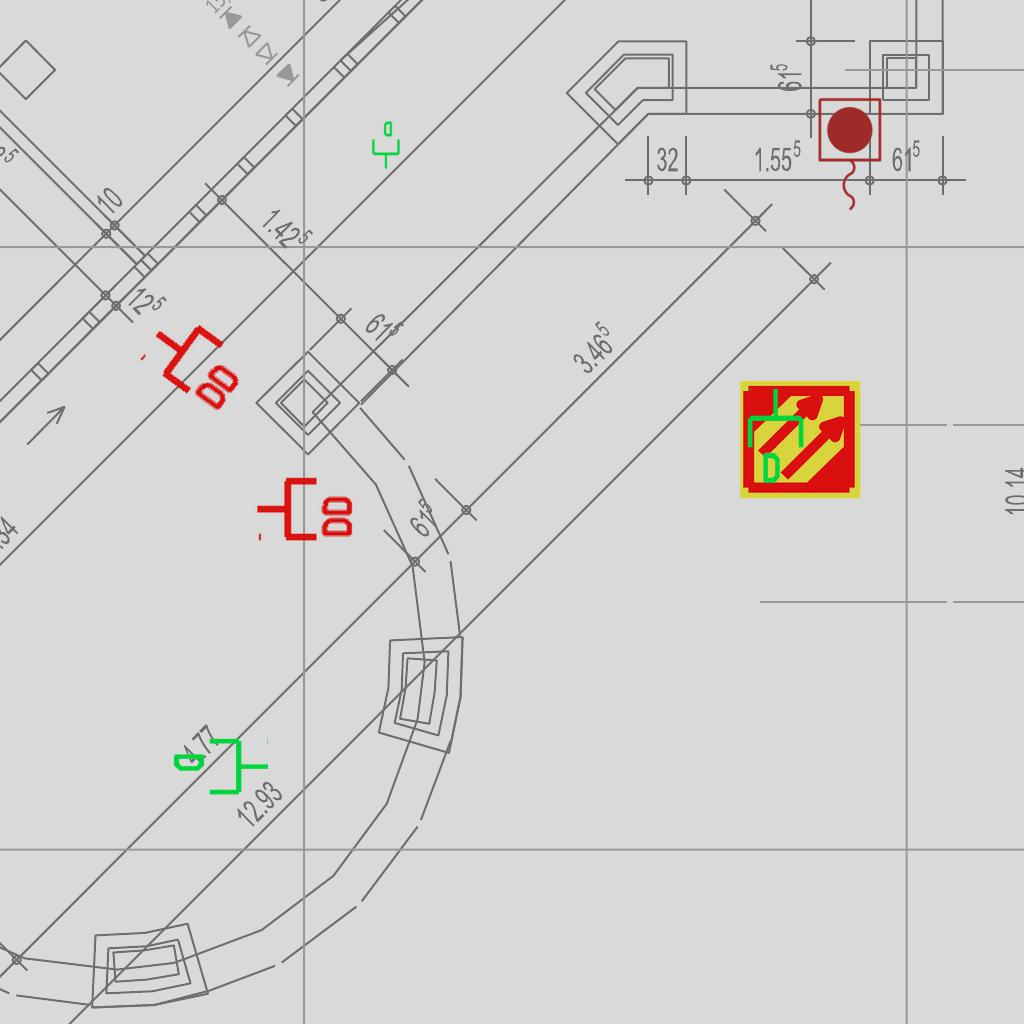ASR_Ansaugrauchmelder: (738, 377, 863, 502)
Datenanschluss_einfach: (171, 734, 271, 803), (743, 386, 812, 486), (368, 120, 402, 170)
Datenanschluss_zweifach: (135, 302, 260, 419), (254, 473, 357, 542)
Zugtaster: (813, 94, 885, 216)
